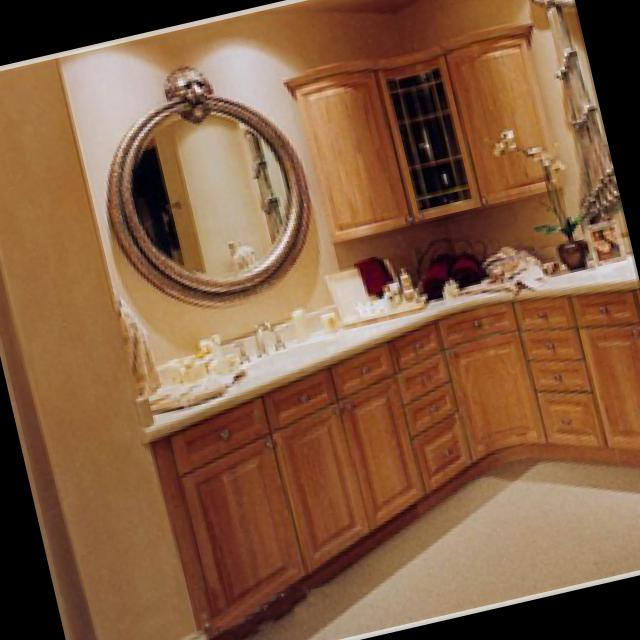bottle crop: (196, 331, 226, 370), (286, 304, 308, 336), (394, 263, 411, 298), (435, 274, 455, 298), (175, 360, 195, 382), (192, 348, 210, 371)
cabinet door: (149, 289, 640, 630), (280, 21, 559, 239)
counter bottom: (133, 251, 633, 441)
curtain crop: (535, 0, 614, 218)
floor -X: (207, 455, 640, 640)
mirror crop: (103, 65, 308, 307), (102, 64, 305, 305)
picture occluded: (583, 219, 621, 263)
plant -x: (480, 129, 585, 266)
sink basin: (235, 339, 326, 378)
sink occluded: (233, 313, 281, 357)
towel basket: (145, 369, 241, 408), (479, 239, 546, 287), (319, 263, 368, 323), (357, 254, 390, 298)
